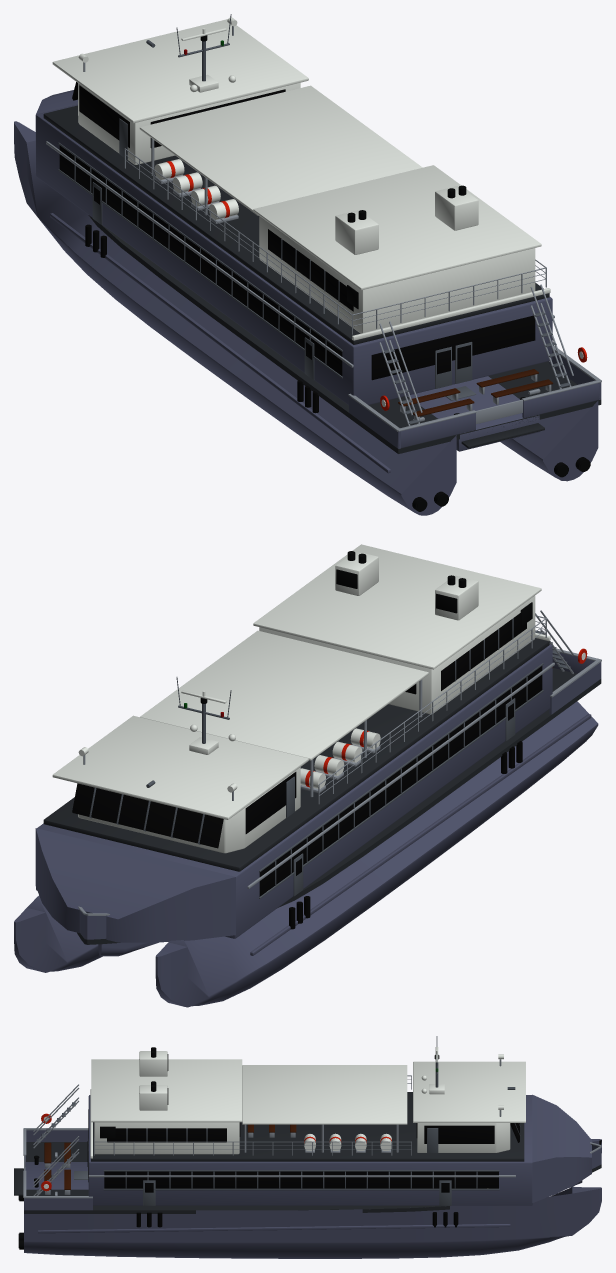
File: SF_Bay_Ferry.glb
3 renders of one model, top to bottom at view 1: azimuth 30°, elevation 25°; view 2: azimuth 150°, elevation 25°; view 3: azimuth 270°, elevation 25°, orthographic. The views are drawn at different scales.
Parts seen in each view (by area): view 1: sf_bay_ferry; view 2: sf_bay_ferry; view 3: sf_bay_ferry.
Part boxes in pixels (x1,y1,x2,y2): sf_bay_ferry: [14, 14, 601, 515]; sf_bay_ferry: [14, 544, 601, 1007]; sf_bay_ferry: [14, 1036, 601, 1258].
Size of the model in its own units: 11.94 by 14.7 by 41.7.
